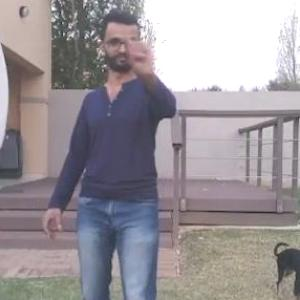takeoff-hand: (120, 20, 162, 73)
